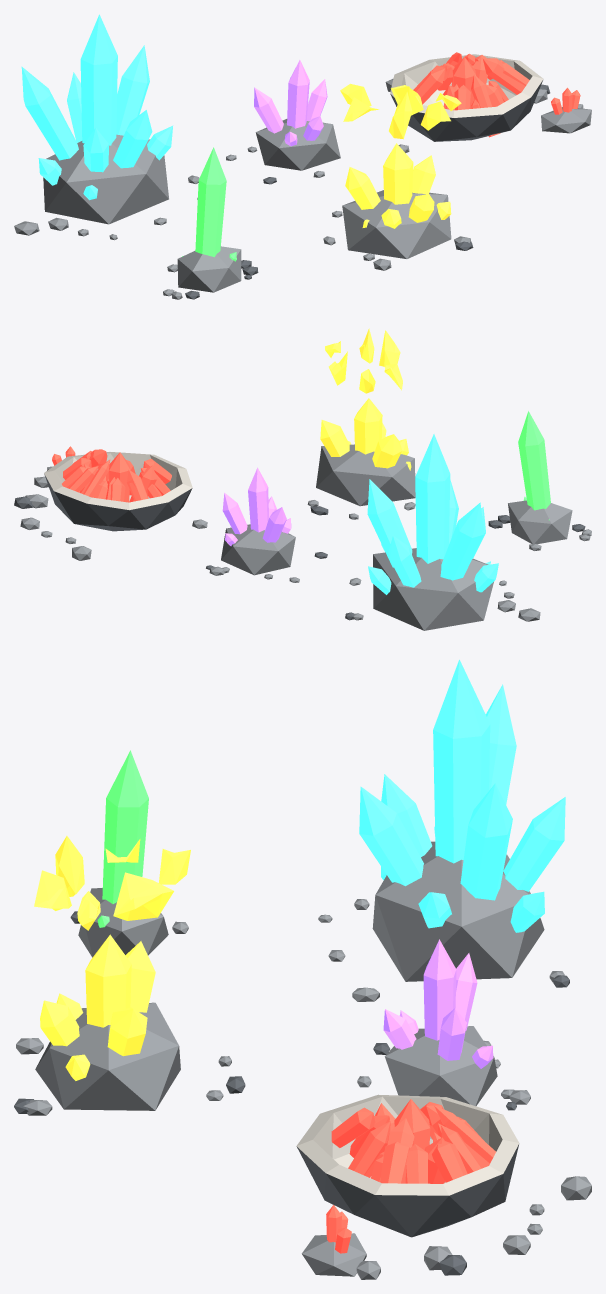
The model's file is mana-crystal-nodes.glb.
The picture shows the model from 3 angles, top to bottom: view 1: azimuth 30°, elevation 25°; view 2: azimuth 150°, elevation 25°; view 3: azimuth 270°, elevation 25°; orthographic projection. The views are drawn at different scales.
Visible parts, largest first — view 1: Blue_Crystals, Blue_Rock, Geode_Shell, Gold_Rock, Gold_Crystals, Geode_Crystals, Purple_Crystals, Purple_Rock, Gold_Shards, Green_Crystal, Green_Rock, Geode_Fragment (+4 smaller); view 2: Blue_Crystals, Blue_Rock, Geode_Shell, Gold_Rock, Geode_Crystals, Gold_Crystals, Purple_Crystals, Purple_Rock, Green_Crystal, Green_Rock, Gold_Shards, Geode_Pebbles (+2 smaller); view 3: Blue_Crystals, Geode_Shell, Blue_Rock, Geode_Crystals, Gold_Rock, Gold_Crystals, Gold_Shards, Purple_Crystals, Purple_Rock, Green_Crystal, Geode_Pebbles, Green_Rock (+5 smaller).
Part boxes in pixels (x1,y1,x2,y2): Blue_Crystals: (21, 14, 173, 200); Blue_Rock: (43, 134, 168, 224); Geode_Shell: (390, 54, 543, 141); Gold_Rock: (342, 190, 451, 258); Gold_Crystals: (345, 143, 451, 228); Geode_Crystals: (413, 52, 529, 137); Purple_Crystals: (254, 60, 327, 146); Purple_Rock: (255, 119, 340, 170); Gold_Shards: (340, 83, 461, 139); Green_Crystal: (182, 147, 236, 261); Green_Rock: (177, 246, 241, 292); Geode_Fragment: (541, 107, 591, 133); Blue_Crystals: (367, 434, 498, 594); Blue_Rock: (373, 548, 493, 630); Geode_Shell: (44, 452, 192, 531); Gold_Rock: (316, 444, 415, 506); Geode_Crystals: (62, 449, 171, 502); Gold_Crystals: (320, 398, 411, 470); Purple_Crystals: (222, 467, 291, 546); Purple_Rock: (221, 524, 295, 575); Green_Crystal: (518, 411, 550, 520); Green_Rock: (508, 500, 572, 543); Gold_Shards: (325, 328, 402, 393); Geode_Pebbles: (14, 476, 207, 560); Blue_Crystals: (359, 659, 565, 932); Geode_Shell: (296, 1094, 519, 1237); Blue_Rock: (372, 841, 544, 981); Geode_Crystals: (331, 1099, 495, 1183); Gold_Rock: (35, 1002, 180, 1110); Gold_Crystals: (40, 934, 155, 1080); Gold_Shards: (34, 836, 190, 930); Purple_Crystals: (383, 939, 493, 1068); Purple_Rock: (384, 1026, 497, 1105); Green_Crystal: (97, 750, 148, 927); Geode_Pebbles: (356, 1176, 591, 1279); Green_Rock: (78, 888, 168, 957).
Size of the model in its own units: 24.95 by 8 by 14.77.
